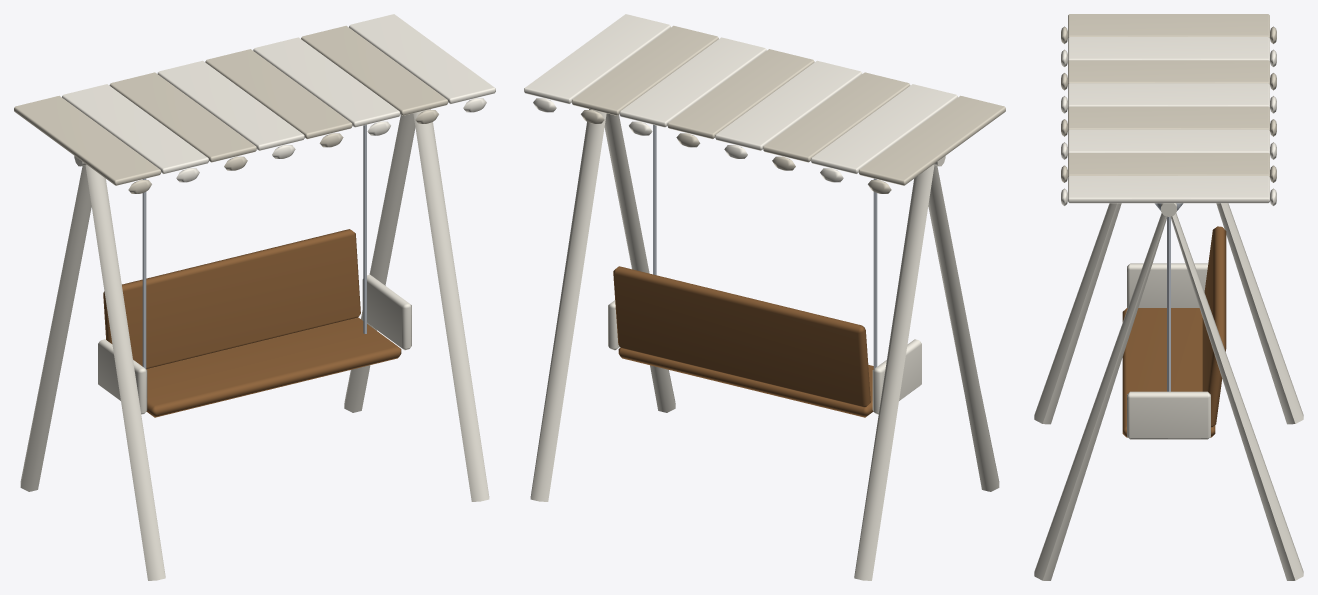
Rendered from swing_bench.glb.
3 renders of one model, left to right at view 1: azimuth 30°, elevation 25°; view 2: azimuth 150°, elevation 25°; view 3: azimuth 270°, elevation 25°, orthographic.
Parts seen in each view (by area): view 1: swing_bench; view 2: swing_bench; view 3: swing_bench.
Boxes of the visible parts, left/top/right/bottom form: swing_bench: left=14, top=14, right=495, bottom=580; swing_bench: left=524, top=14, right=1005, bottom=580; swing_bench: left=1034, top=14, right=1303, bottom=580.
Size of the model in its own units: 2.59 by 2.59 by 1.6.
